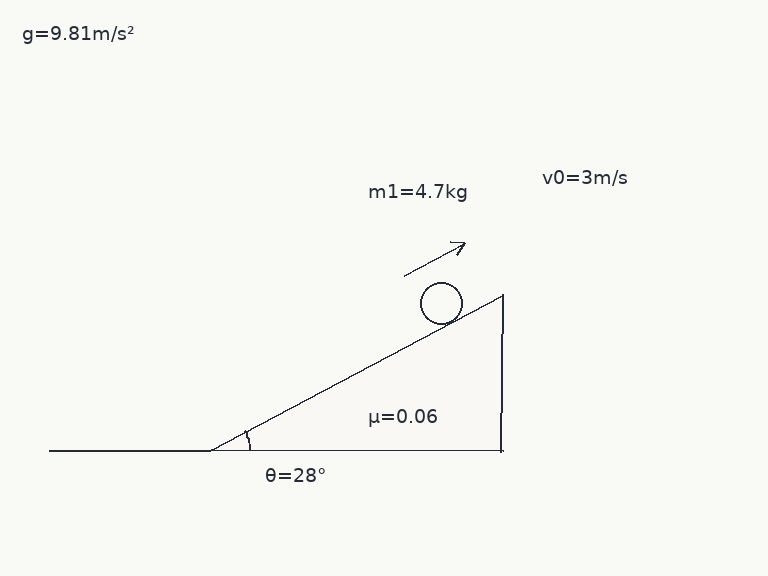ball: (418, 280, 464, 326)
ramp: (208, 293, 503, 452)
